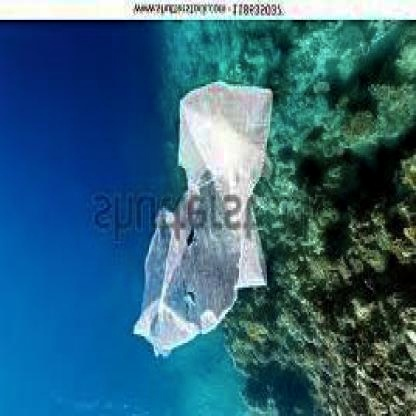pbag: (129, 73, 273, 363)
